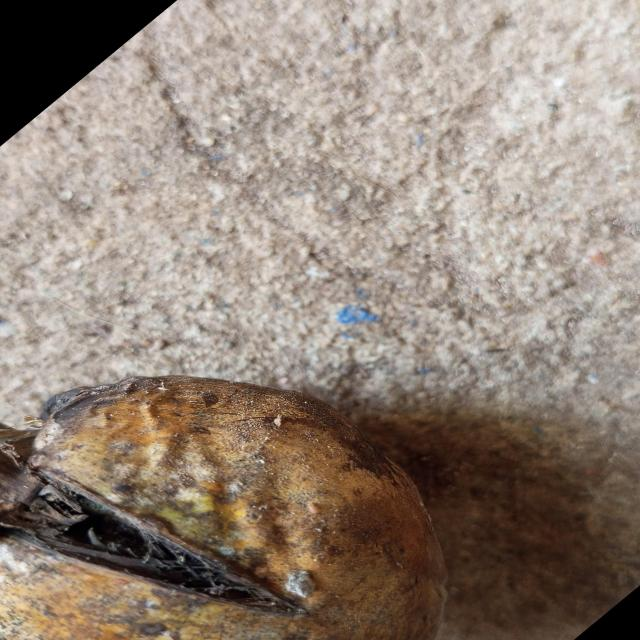damaged: (0, 376, 449, 640)
